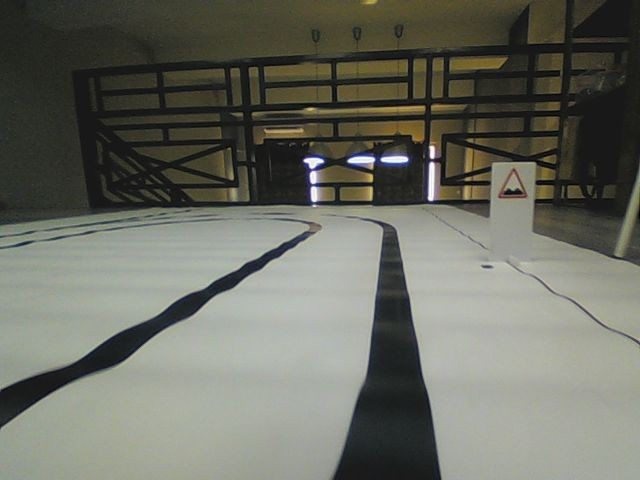Nerov: (497, 166, 527, 199)
